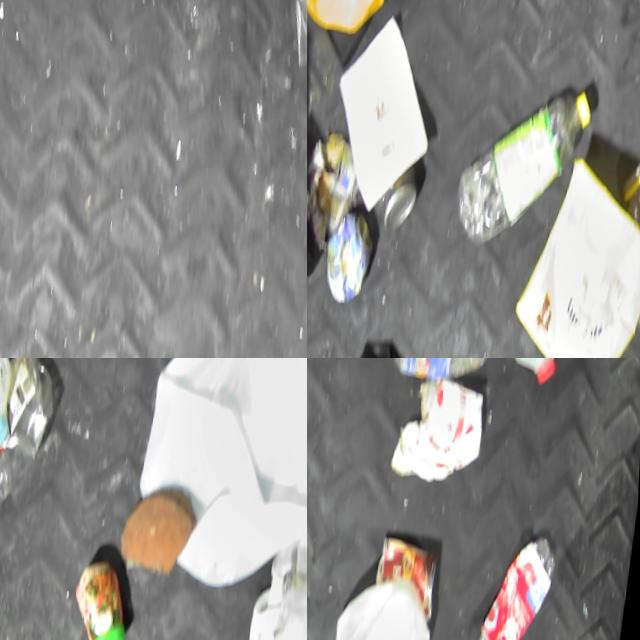can: (372, 525, 446, 614), (321, 201, 381, 309)
milk_jug: (129, 358, 307, 601), (240, 467, 307, 640), (318, 557, 442, 640)
plastic_bottle: (451, 60, 596, 260), (468, 507, 563, 640), (601, 138, 640, 358)
